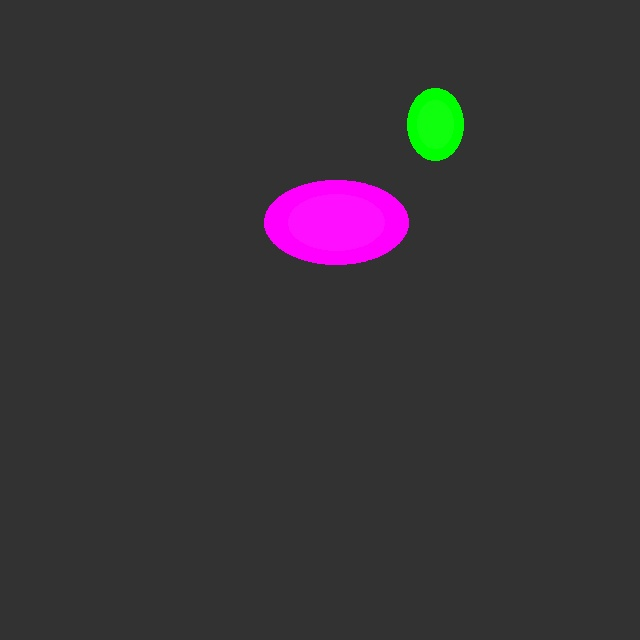fish: (264, 180, 408, 264), (407, 88, 463, 160)
